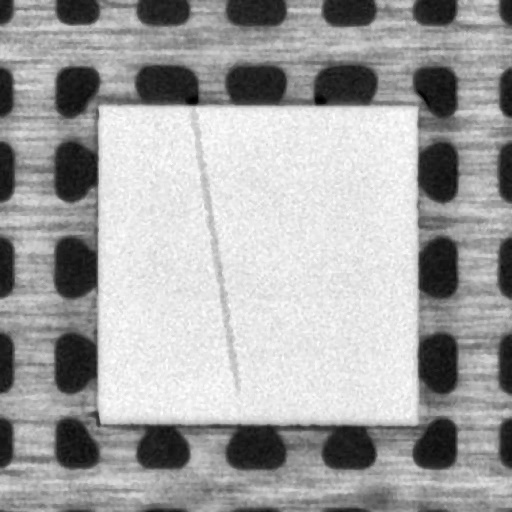DIE_CRACK: (192, 111, 236, 390)
